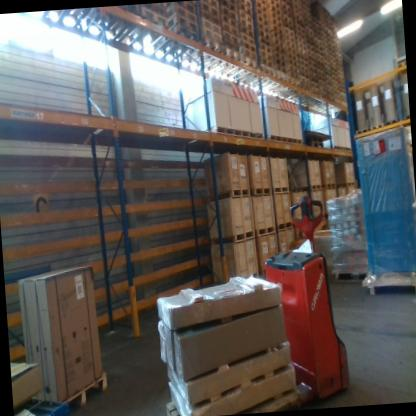pallet: (30, 370, 110, 416), (115, 4, 171, 55), (149, 25, 201, 64), (176, 36, 223, 74), (331, 266, 374, 286), (167, 11, 200, 37), (210, 228, 257, 246), (167, 2, 199, 28), (208, 185, 252, 203), (167, 0, 198, 19), (198, 15, 222, 38), (197, 0, 221, 22), (199, 25, 223, 46), (198, 8, 221, 29), (297, 181, 325, 198), (221, 28, 240, 47), (220, 20, 239, 39), (221, 44, 241, 62), (220, 37, 240, 55), (238, 22, 256, 42), (270, 183, 292, 199), (219, 3, 237, 22), (220, 12, 238, 30), (253, 185, 272, 202), (241, 52, 258, 70), (239, 31, 256, 49), (237, 8, 254, 26), (239, 39, 257, 55), (237, 0, 253, 18), (240, 46, 257, 62), (238, 16, 254, 33), (220, 0, 237, 15), (256, 225, 277, 237), (201, 0, 220, 13), (258, 48, 273, 64), (257, 34, 272, 50), (256, 27, 271, 43), (255, 20, 270, 36), (255, 6, 269, 23), (276, 220, 294, 233), (258, 42, 273, 57), (254, 0, 268, 16), (323, 180, 338, 194), (260, 63, 275, 77), (259, 56, 274, 70), (255, 14, 269, 29), (270, 23, 284, 38), (273, 51, 287, 65), (272, 44, 286, 57), (271, 30, 285, 43), (269, 10, 283, 23), (268, 4, 282, 17), (384, 116, 399, 128), (282, 13, 294, 28), (237, 0, 253, 11), (274, 57, 287, 70), (272, 37, 285, 50), (270, 17, 283, 30), (283, 26, 296, 39), (274, 63, 288, 75), (281, 0, 292, 15), (286, 51, 298, 64), (285, 38, 297, 51), (267, 0, 281, 11), (285, 32, 296, 46), (282, 7, 293, 21), (337, 181, 356, 189), (369, 122, 385, 131), (287, 64, 299, 76), (287, 58, 299, 70), (286, 45, 298, 57), (396, 60, 407, 73), (355, 127, 369, 137), (314, 32, 323, 47), (298, 58, 309, 70), (295, 24, 306, 36), (293, 12, 304, 24), (296, 28, 306, 41), (296, 35, 307, 46), (283, 21, 294, 32), (288, 71, 300, 81), (300, 75, 310, 87), (295, 18, 305, 30), (300, 70, 310, 81), (299, 64, 309, 75), (298, 47, 308, 58), (297, 41, 307, 52), (309, 70, 319, 81), (304, 15, 314, 26), (254, 0, 267, 8), (298, 53, 308, 63), (309, 64, 318, 75), (307, 43, 316, 54), (306, 37, 315, 48), (306, 32, 315, 43), (305, 26, 314, 37), (308, 59, 317, 69), (308, 54, 317, 64), (307, 49, 316, 59), (316, 53, 325, 63), (315, 42, 324, 52), (305, 21, 314, 31), (316, 47, 324, 58), (310, 87, 319, 96), (310, 81, 319, 90), (310, 76, 319, 85), (319, 90, 328, 99), (317, 64, 326, 73), (319, 84, 327, 94), (319, 79, 327, 89), (318, 69, 326, 79), (317, 59, 325, 69), (318, 74, 326, 83), (267, 0, 281, 4)
pallet_truck: (262, 195, 352, 405)
